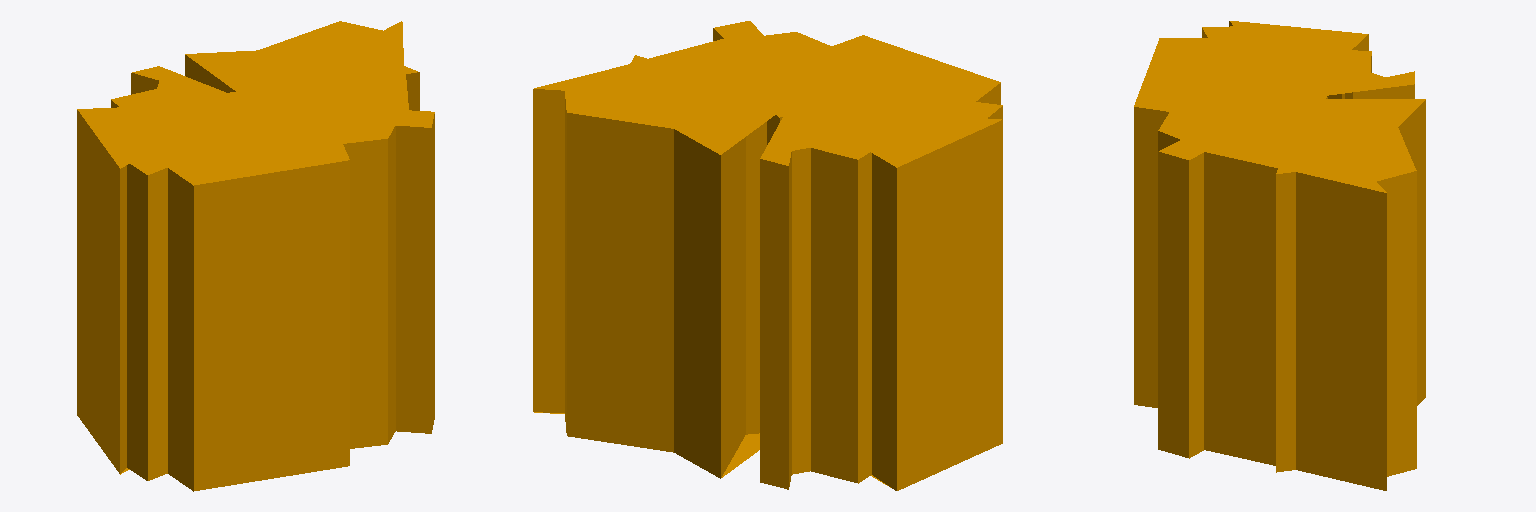
URDF robot description (drink_ad):
<?xml version="1.0"?>
<robot name="drink_ad">
  <link name="base_link">
    <inertial>
      <origin xyz="0 0 0" rpy="0 0 0"/>
      <mass value="0.550000"/>
      <inertia ixx="0.00378789" ixy="0.0" ixz="0.0" iyy="0.00538757" iyz="0.0" izz="0.00494432"/>
    </inertial>
    <visual>
      <origin xyz="0 0 0" rpy="0 0 0"/>
      <geometry>
        <mesh filename="drink_ad.obj" scale="1.0 1.0 1.0"/>
      </geometry>
    </visual>
    <collision>
      <origin xyz="0 0 0" rpy="0 0 0"/>
      <geometry>
        <mesh filename="drink_ad_collision.obj" scale="1.0 1.0 1.0"/>
      </geometry>
    </collision>
  </link>
</robot>

--- Facts derived from the render (not from the file) ---
Views: 3 orthographic renders of the robot side by side, from view 1: azimuth 30°, elevation 25°; view 2: azimuth 150°, elevation 25°; view 3: azimuth 270°, elevation 25°.
Robot: drink_ad — 1 links, 0 joints (none); root link base_link; default pose: all joints at 0.
Links seen in each view (by area): view 1: base_link; view 2: base_link; view 3: base_link.
Link boxes in pixels (x1=…): base_link: x1=77, y1=21, x2=434, y2=491; base_link: x1=533, y1=21, x2=1002, y2=490; base_link: x1=1134, y1=21, x2=1425, y2=490.
Size in the robot's own frame: 0.2672 by 0.191 by 0.2148 metres.
Meshes: 1 distinct files referenced, 1 mesh visuals loaded (1 OBJ).
